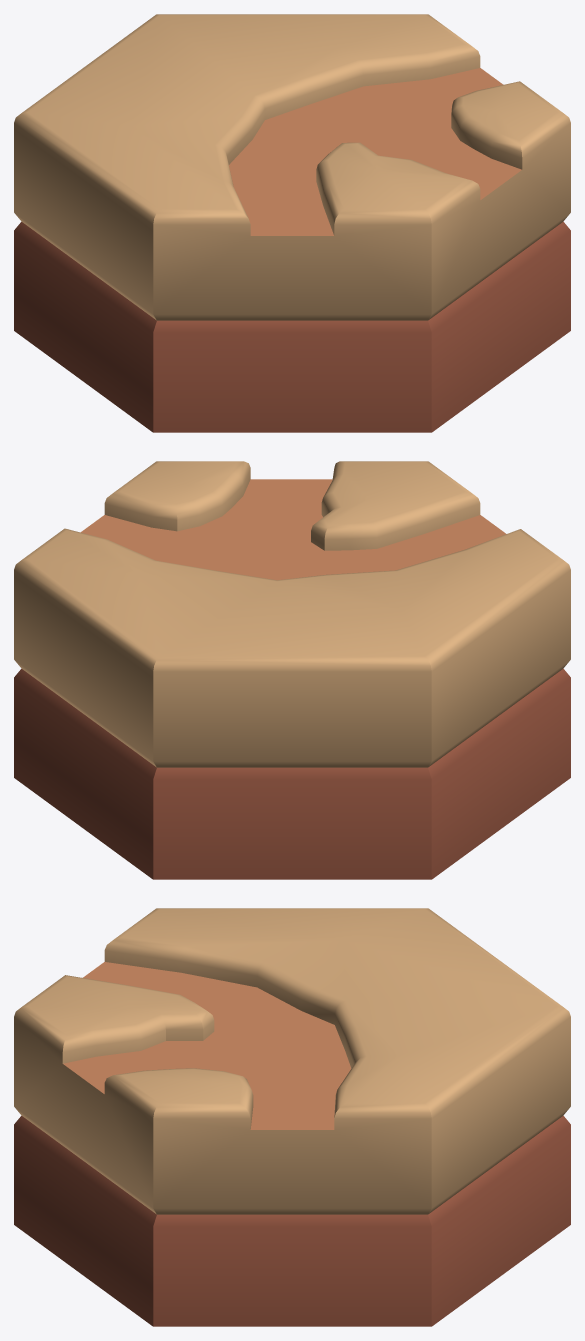
The model's file is hex_sand_roadH_detail.glb.
The picture shows the model from 3 angles, top to bottom: view 1: azimuth 30°, elevation 25°; view 2: azimuth 150°, elevation 25°; view 3: azimuth 270°, elevation 25°; orthographic projection.
Visible parts, largest first — view 1: hex_sand_roadH_detail; view 2: hex_sand_roadH_detail; view 3: hex_sand_roadH_detail.
Boxes of the visible parts, x1=… form: hex_sand_roadH_detail: x1=14, y1=14, x2=570, y2=432; hex_sand_roadH_detail: x1=14, y1=461, x2=570, y2=879; hex_sand_roadH_detail: x1=14, y1=908, x2=570, y2=1326.
Size of the model in its own units: 3.82 by 1.91 by 4.41.
